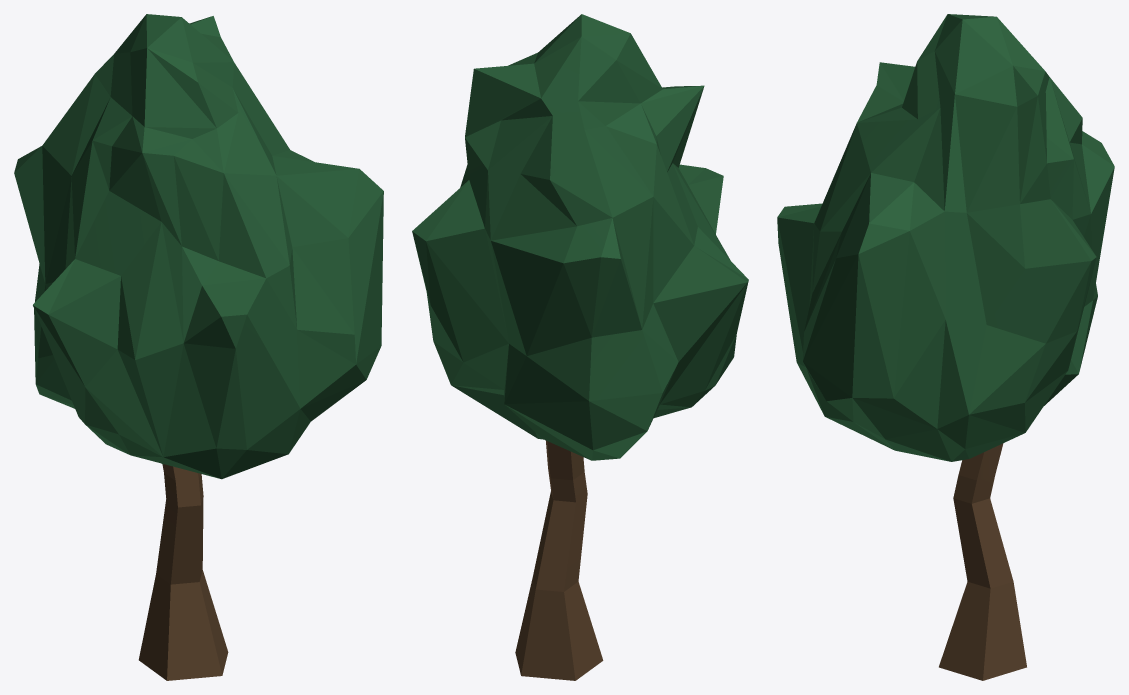
File: tree3.fbx
3 renders of one model, left to right at view 1: azimuth 30°, elevation 25°; view 2: azimuth 150°, elevation 25°; view 3: azimuth 270°, elevation 25°, orthographic. The views are drawn at different scales.
Visible parts, largest first — view 1: polySurface14141; view 2: polySurface14141; view 3: polySurface14141.
Part boxes in pixels (<box>): polySurface14141: <box>14,14,383,680</box>; polySurface14141: <box>412,14,748,680</box>; polySurface14141: <box>777,14,1114,680</box>.
Size of the model in its own units: 306 by 625 by 301.
